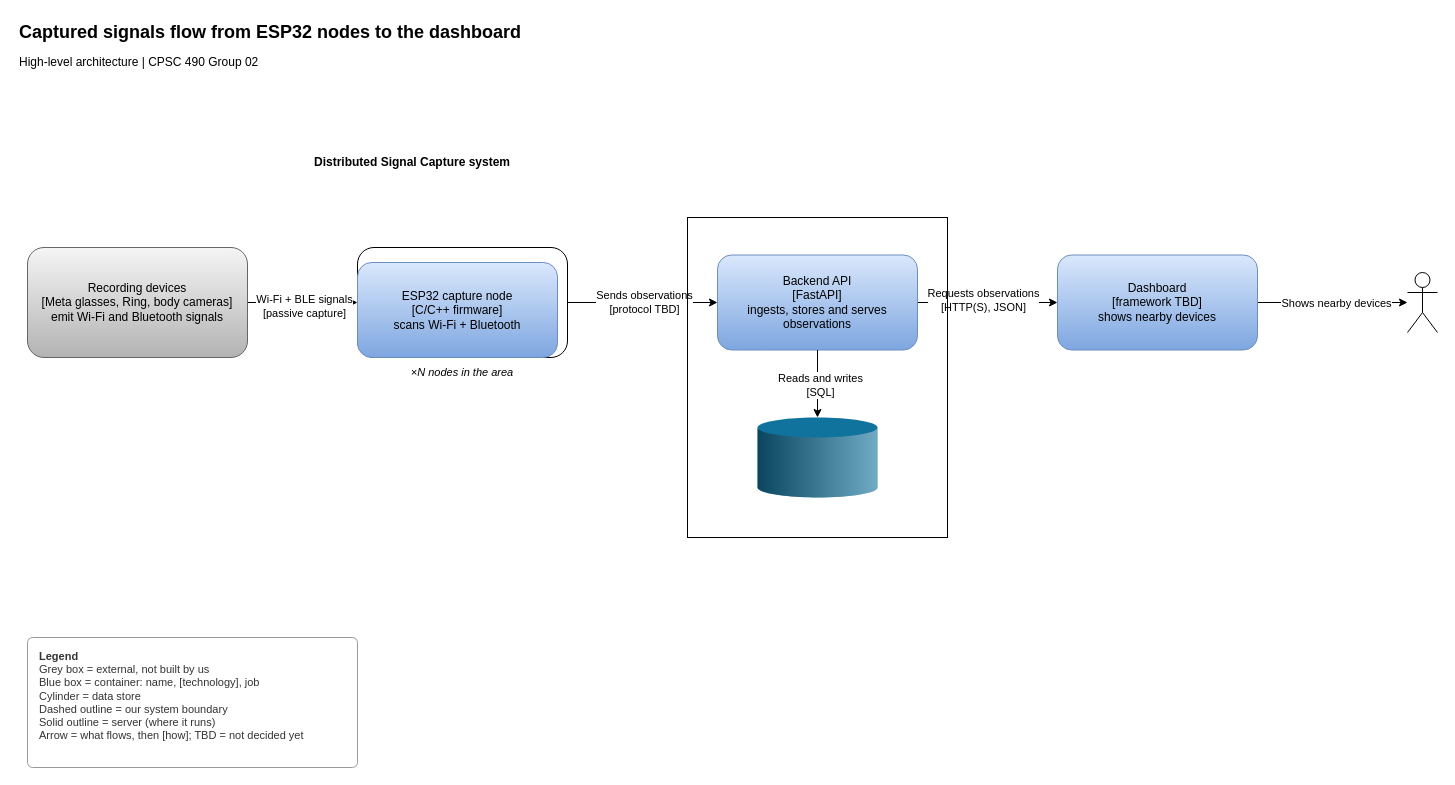
The diagram is 1455 pixels wide and 785 high, and some of its shapes have lost their labels. Each missing label, with the box of its shape:
Database [PostgreSQL] Observations, devices: (757, 417, 877, 497)
Server [self-hosted]: (686, 216, 948, 538)
User: (1406, 272, 1438, 332)
